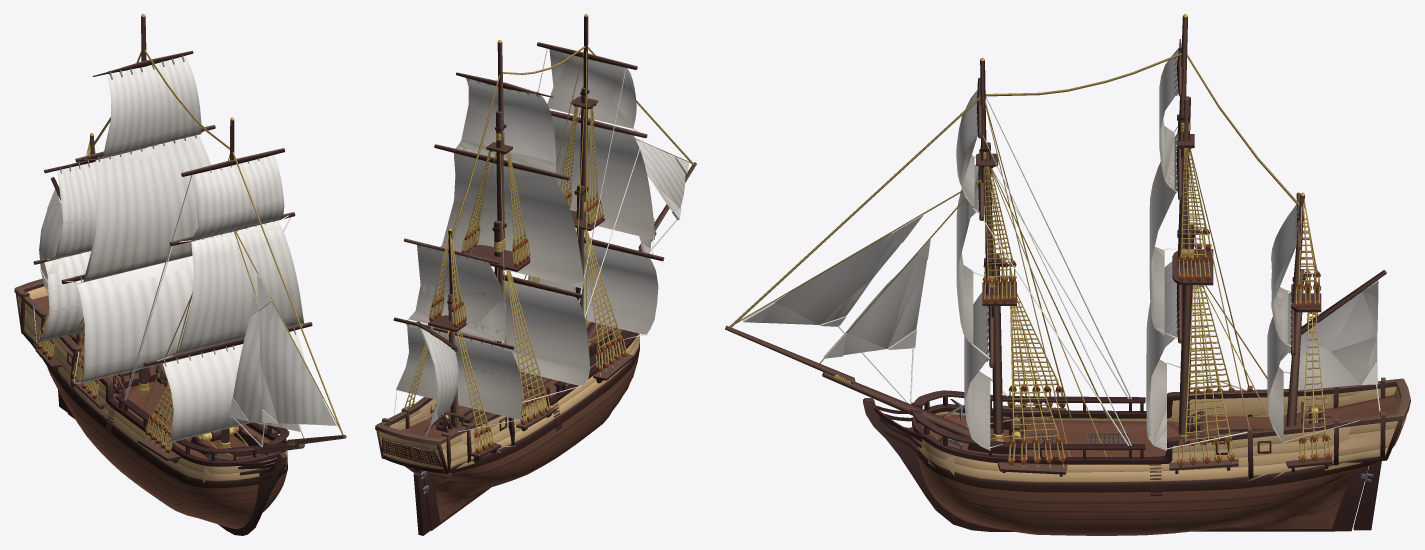
Rendered from Ship Bounty.fbx.
3 views of the same model, side by side, from view 1: azimuth 30°, elevation 25°; view 2: azimuth 150°, elevation 25°; view 3: azimuth 270°, elevation 25° (orthographic). The views are drawn at different scales.
Parts seen in each view (by area): view 1: Ship Bounty high, Ship Bounty very low, Ship Bounty low; view 2: Ship Bounty very low, Ship Bounty high, Ship Bounty low; view 3: Ship Bounty high, Ship Bounty very low, Ship Bounty low.
Boxes of the visible parts, x1,y1,x2,y2 form: Ship Bounty high: [14, 14, 343, 535]; Ship Bounty very low: [18, 79, 320, 527]; Ship Bounty low: [23, 15, 346, 456]; Ship Bounty very low: [390, 49, 680, 521]; Ship Bounty high: [375, 14, 694, 535]; Ship Bounty low: [383, 16, 696, 438]; Ship Bounty high: [729, 14, 1410, 535]; Ship Bounty very low: [761, 95, 1400, 530]; Ship Bounty low: [725, 16, 1397, 460].
Bounding box in the file's own units: 2444 × 6324 × 7613.
2 materials, 2 textured.
